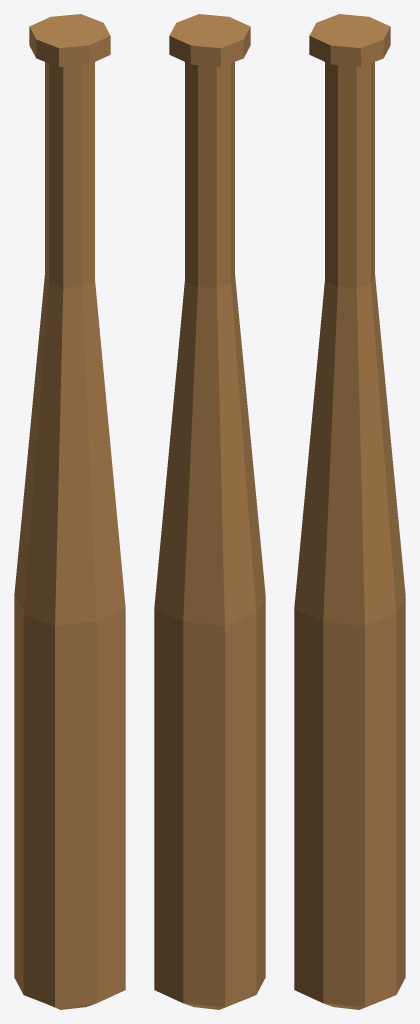
3 renders of one model, left to right at view 1: azimuth 30°, elevation 25°; view 2: azimuth 150°, elevation 25°; view 3: azimuth 330°, elevation 25°, orthographic.
Parts seen in each view (by area): view 1: barrel, taper, grip; view 2: barrel, taper, grip; view 3: barrel, taper, grip.
Boxes of the visible parts, box(x1,y1,x2,y2) form: barrel: box(14, 596, 125, 1009); taper: box(14, 275, 125, 626); grip: box(29, 14, 110, 288); barrel: box(154, 596, 265, 1009); taper: box(154, 275, 265, 626); grip: box(169, 14, 250, 288); barrel: box(294, 596, 405, 1009); taper: box(294, 275, 405, 626); grip: box(309, 14, 390, 288).
Bounding box in the file's own units: 0.0867 × 0.86 × 0.0867.
